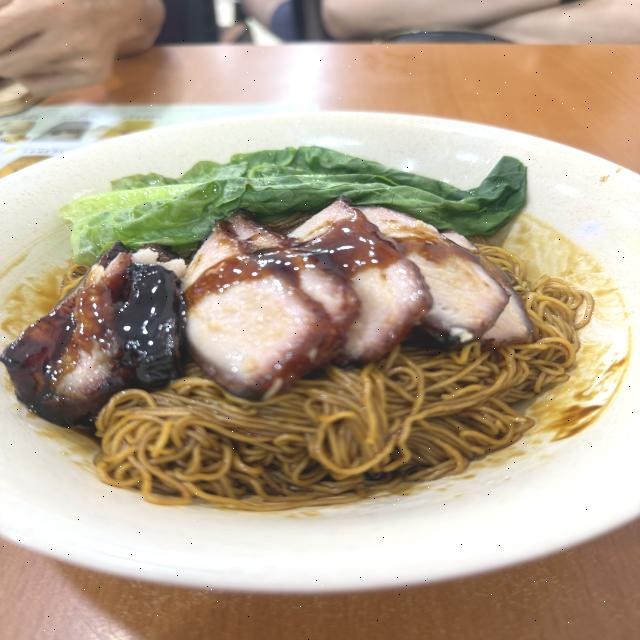Wantan Mee: (6, 101, 596, 571)
